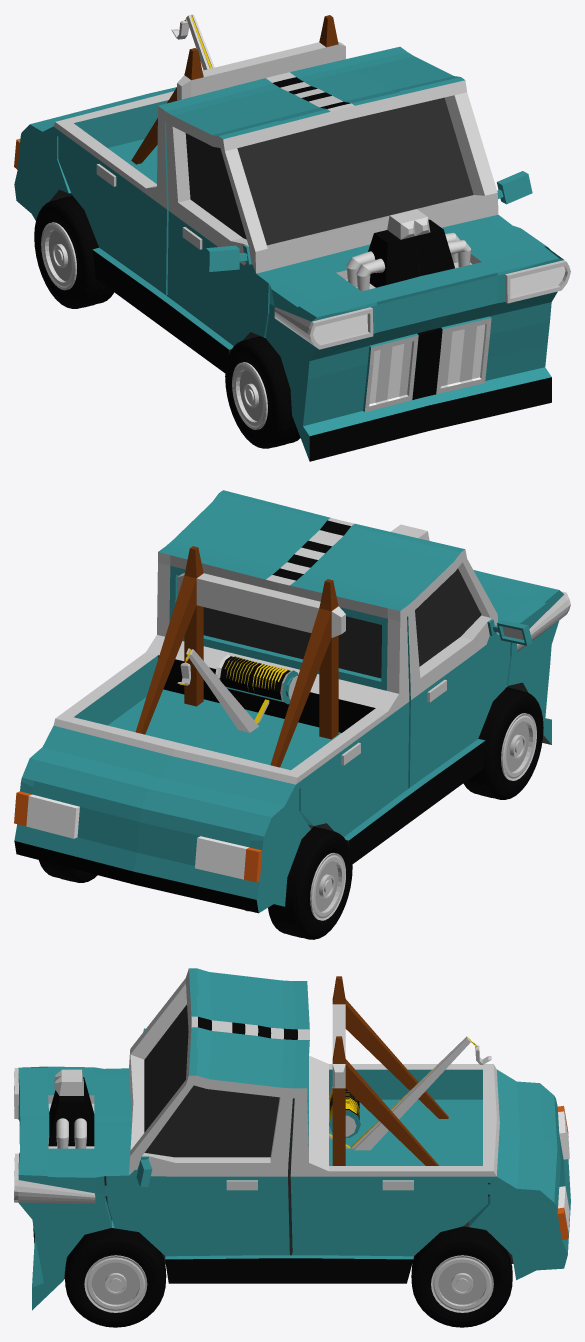
The picture shows the model from 3 angles, top to bottom: view 1: azimuth 30°, elevation 25°; view 2: azimuth 150°, elevation 25°; view 3: azimuth 270°, elevation 25°; orthographic projection. The views are drawn at different scales.
Visible parts, largest first — view 1: BODY43B, WHEEL.001, WHEEL.004, Cube; view 2: BODY43B, WHEEL.004, WHEEL.001, Cube, WHEEL.002; view 3: BODY43B, WHEEL.002, WHEEL.003, Cube.
Part boxes in pixels (left/top/right/bottom): BODY43B: left=14, top=15, right=570, bottom=461; WHEEL.001: left=225, top=336, right=300, bottom=448; WHEEL.004: left=34, top=196, right=113, bottom=308; Cube: left=171, top=14, right=214, bottom=70; BODY43B: left=14, top=490, right=570, bottom=913; WHEEL.004: left=268, top=826, right=352, bottom=939; WHEEL.001: left=463, top=687, right=543, bottom=799; Cube: left=177, top=648, right=269, bottom=732; WHEEL.002: left=39, top=860, right=97, bottom=882; BODY43B: left=14, top=968, right=570, bottom=1310; WHEEL.002: left=411, top=1226, right=512, bottom=1327; WHEEL.003: left=65, top=1228, right=166, bottom=1327; Cube: left=329, top=1036, right=491, bottom=1150.
Bounding box in the file's own units: 131 × 112 × 215.
